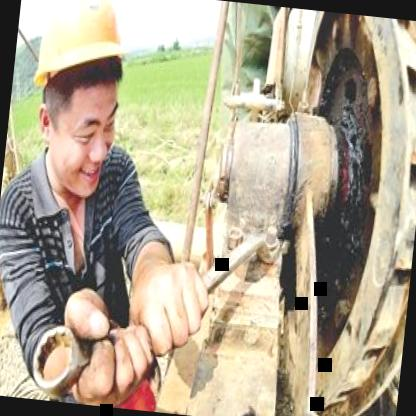helmet: (17, 0, 151, 203)
